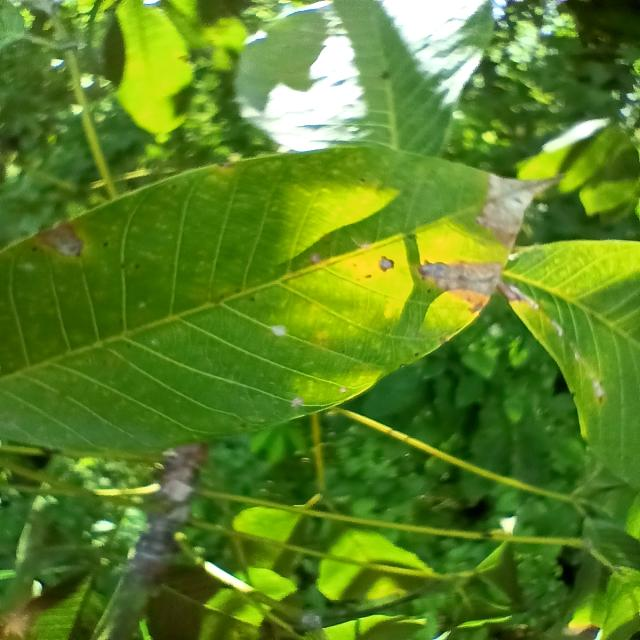Leaf-Blight: (478, 172, 556, 249), (419, 262, 503, 312), (36, 223, 82, 256), (496, 280, 538, 306)
